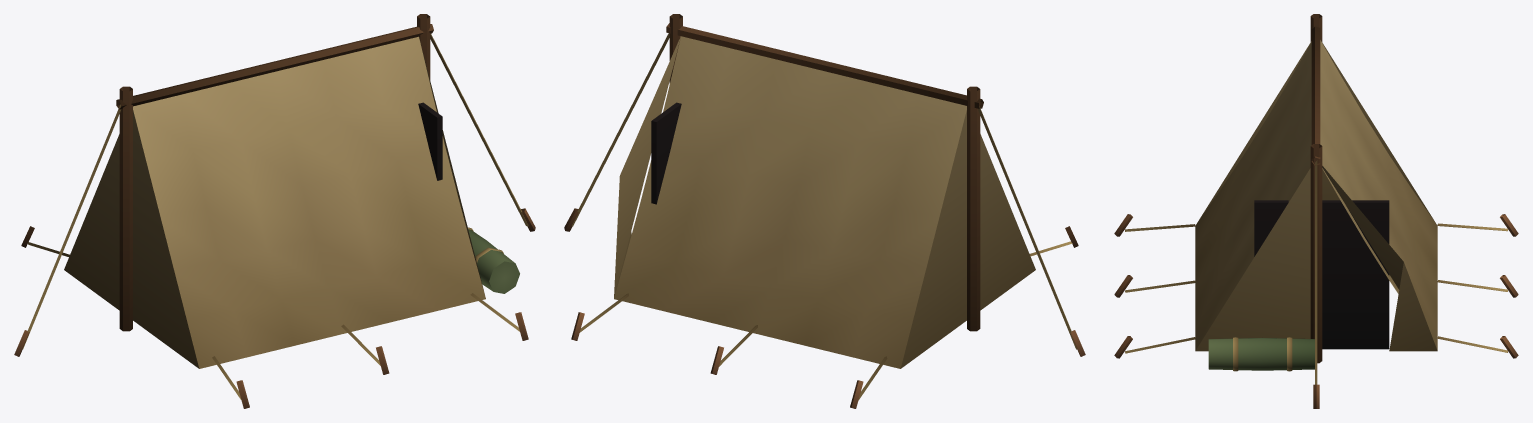
The model's file is camp_tent.glb.
3 renders of one model, left to right at view 1: azimuth 30°, elevation 25°; view 2: azimuth 150°, elevation 25°; view 3: azimuth 270°, elevation 25°, orthographic. The views are drawn at different scales.
Parts seen in each view (by area): view 1: camp_tent_trim, camp_tent; view 2: camp_tent_trim, camp_tent; view 3: camp_tent_trim, camp_tent.
Part boxes in pixels (<box>): camp_tent_trim: <box>23,34,528,399</box>; camp_tent: <box>14,14,535,408</box>; camp_tent_trim: <box>572,33,1076,400</box>; camp_tent: <box>564,14,1085,408</box>; camp_tent_trim: <box>1125,39,1507,384</box>; camp_tent: <box>1114,14,1518,408</box>.
Bounding box in the file's own units: 2 × 0.8864 × 1.5.
